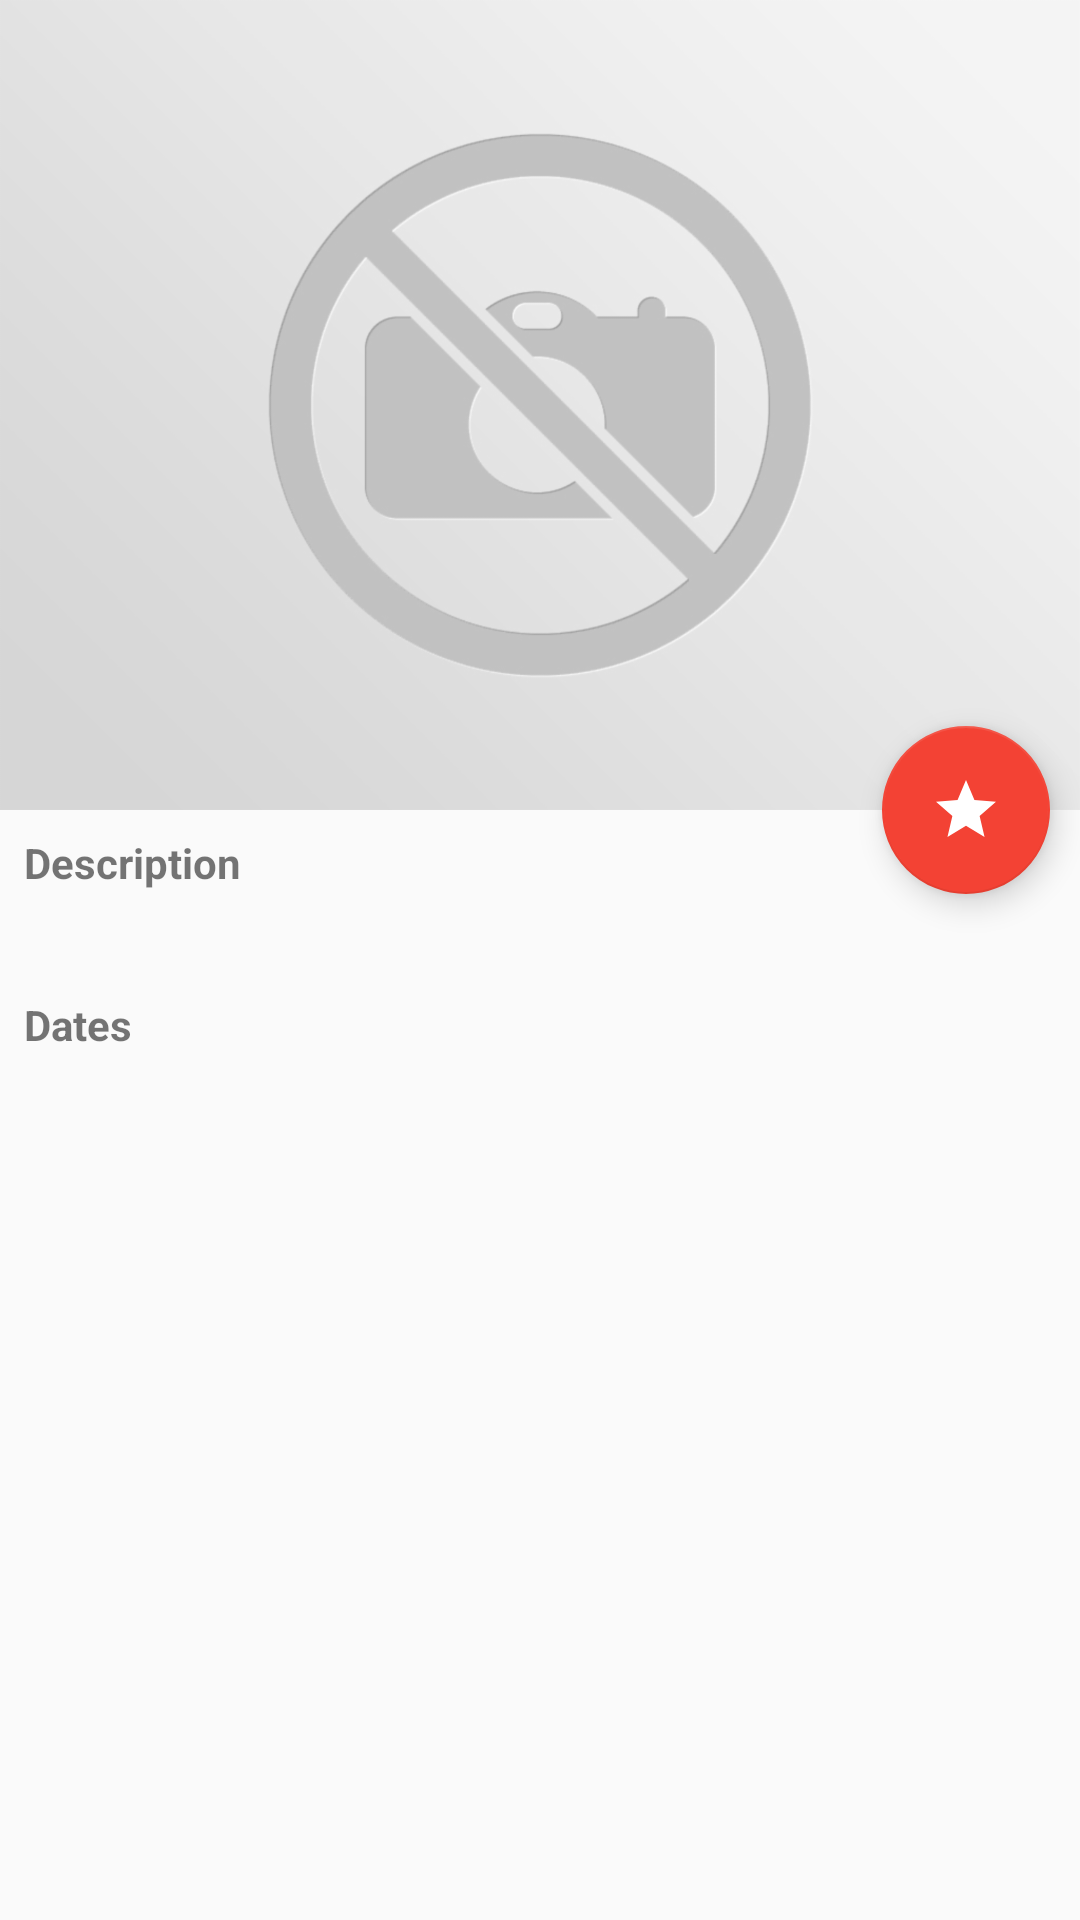

Icon bounding boxes for this 1080 x 1920 phone screenshot, format (x1, y1, x2, y2):
star: (882, 726, 1050, 894)
